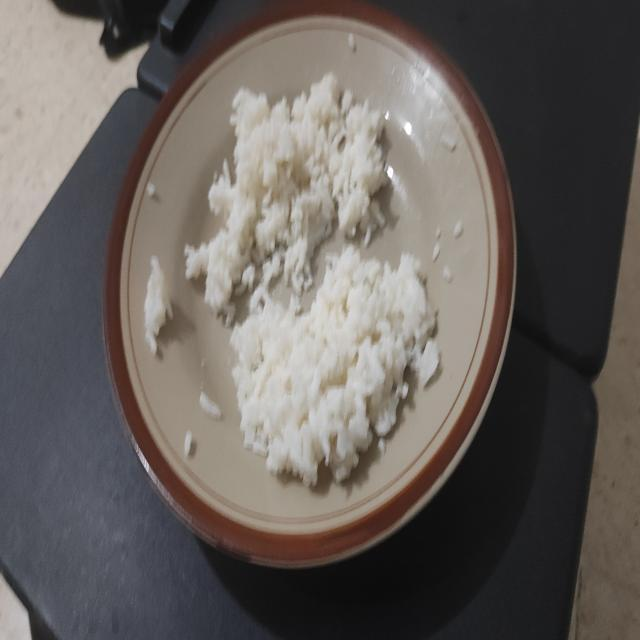nasi_putih: (230, 246, 440, 487), (185, 73, 386, 316)
